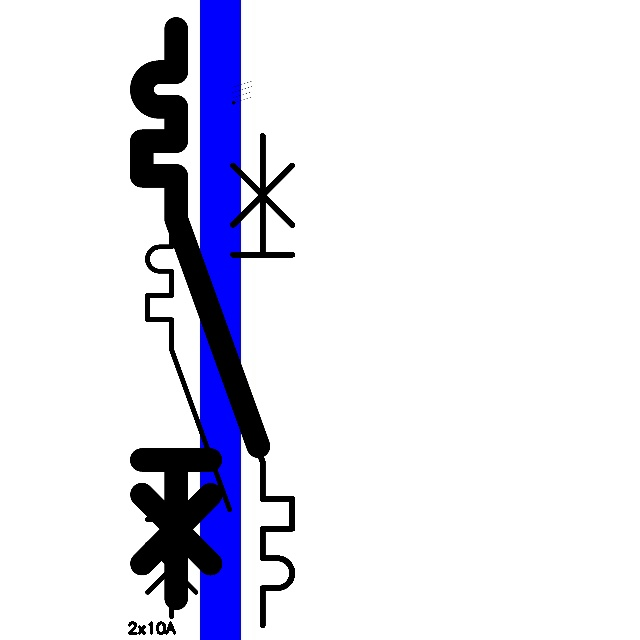interruptor_termomagnetico: (127, 14, 273, 612), (179, 123, 305, 638), (137, 206, 240, 626)
